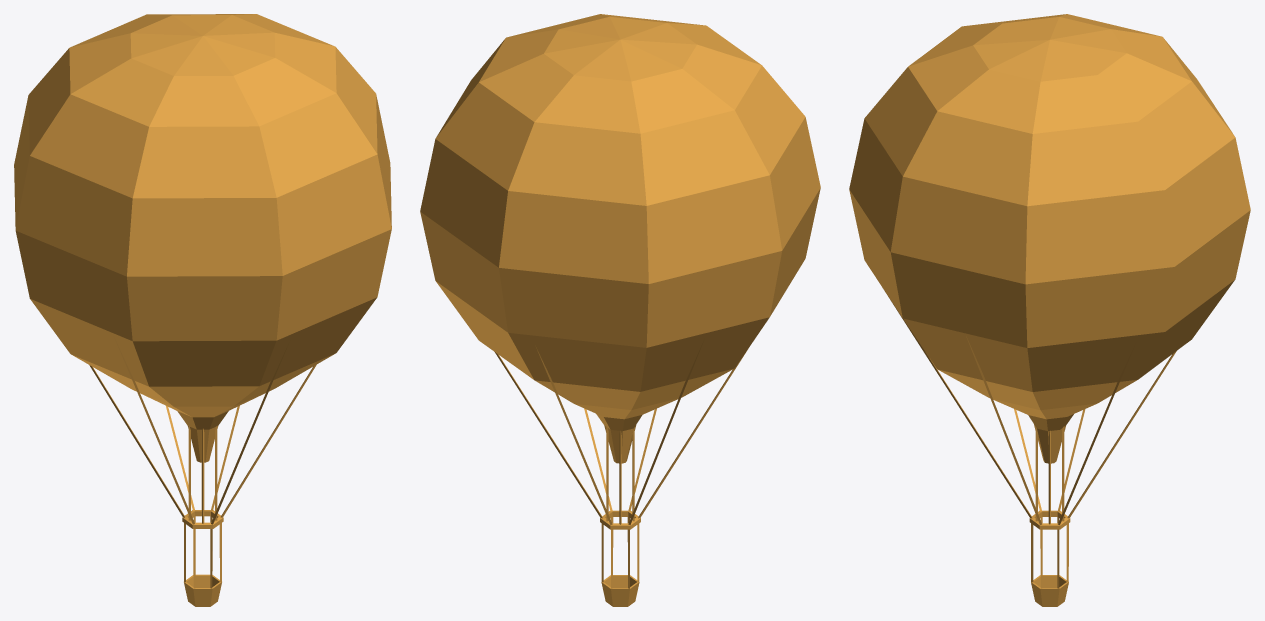
The model's file is balloon-spotter.fbx.
3 views of the same model, side by side, from view 1: azimuth 30°, elevation 25°; view 2: azimuth 150°, elevation 25°; view 3: azimuth 270°, elevation 25° (orthographic).
Visible parts, largest first — view 1: balloon-spotter; view 2: balloon-spotter; view 3: balloon-spotter.
Boxes of the visible parts, left/top/right/bottom form: balloon-spotter: left=14, top=14, right=391, bottom=606; balloon-spotter: left=420, top=14, right=820, bottom=606; balloon-spotter: left=849, top=14, right=1250, bottom=606.
Size of the model in its own units: 11.91 by 18.38 by 11.91.
